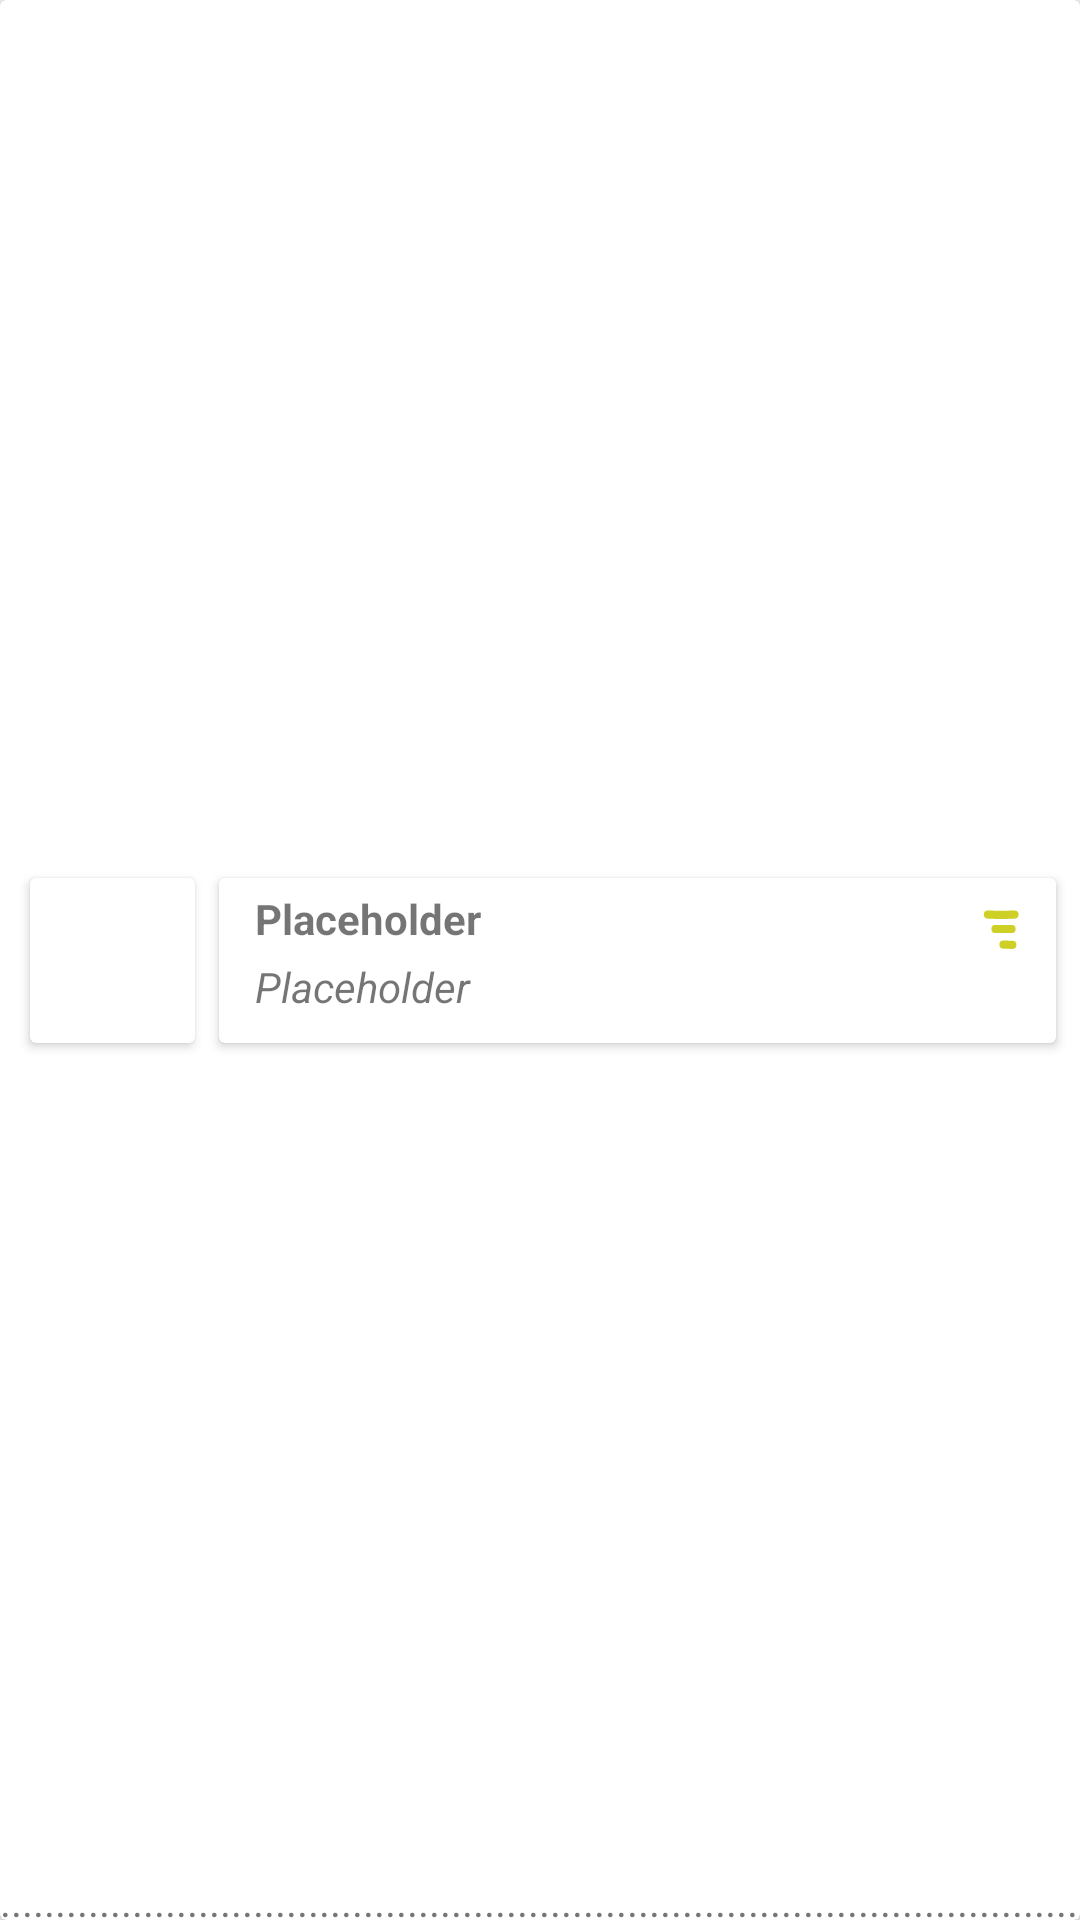

Icons on this 1080px x 1920px Android screen, each with the point to tap as [x,y]:
list dropdown: [1001,929]
